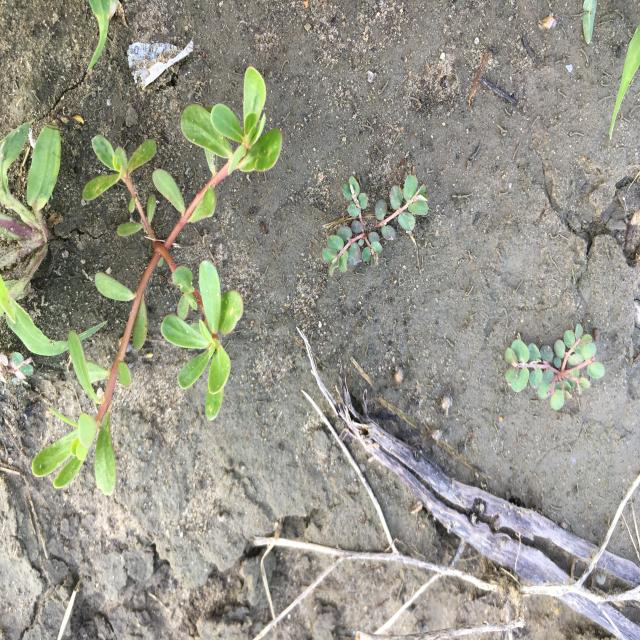Purslane: (31, 65, 284, 498)
SpottedSpurge: (321, 173, 430, 279), (504, 323, 606, 412)
